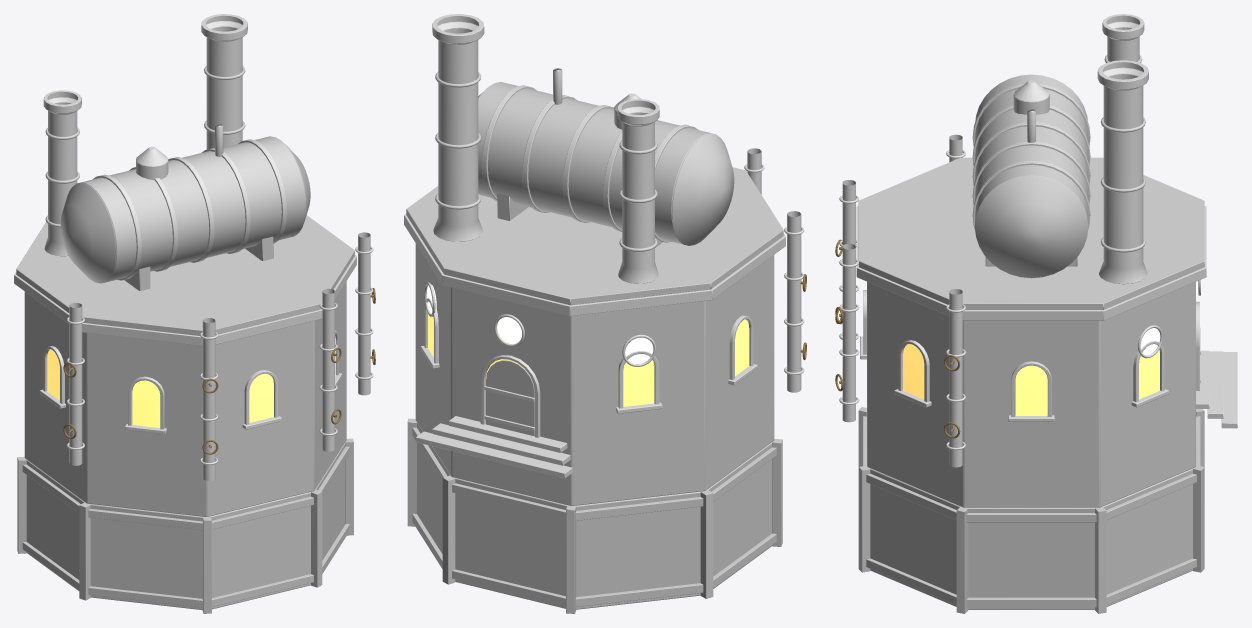
File: workshop.glb
The picture shows the model from 3 angles, left to right: view 1: azimuth 30°, elevation 25°; view 2: azimuth 150°, elevation 25°; view 3: azimuth 270°, elevation 25°; orthographic projection. The views are drawn at different scales.
Visible parts, largest first — view 1: ground__iron_decay, crown__iron_decay, basement__iron_decay, ground__brass_pipe, crown__soot_iron, crown__brass_pipe, ground__window_glass, ground__bronze; view 2: ground__iron_decay, crown__iron_decay, basement__iron_decay, crown__soot_iron, crown__brass_pipe, ground__brass_pipe, ground__stone_decay, ground__window_glass, ground__trim_brass, ground__clock_face; view 3: ground__iron_decay, crown__iron_decay, basement__iron_decay, crown__soot_iron, ground__brass_pipe, crown__brass_pipe, ground__window_glass, ground__stone_decay, ground__bronze.
Boxes of the visible parts, box(x1,y1,x2,y2) form: ground__iron_decay: box(24, 281, 346, 516); crown__iron_decay: box(16, 66, 354, 335); basement__iron_decay: box(17, 438, 353, 613); ground__brass_pipe: box(39, 232, 373, 480); crown__soot_iron: box(43, 14, 247, 256); crown__brass_pipe: box(14, 124, 356, 345); ground__window_glass: box(47, 336, 335, 427); ground__bronze: box(63, 288, 375, 454); ground__iron_decay: box(415, 243, 774, 505); crown__iron_decay: box(406, 71, 783, 305); basement__iron_decay: box(407, 418, 782, 613); crown__soot_iron: box(432, 14, 659, 283); crown__brass_pipe: box(404, 68, 785, 315); ground__brass_pipe: box(420, 148, 804, 413); ground__stone_decay: box(416, 416, 572, 478); ground__window_glass: box(428, 314, 749, 406); ground__trim_brass: box(480, 355, 540, 437); ground__clock_face: box(427, 284, 653, 363); ground__iron_decay: box(867, 282, 1195, 507); crown__iron_decay: box(858, 55, 1204, 309); basement__iron_decay: box(858, 407, 1204, 613); crown__soot_iron: box(1097, 14, 1148, 284); ground__brass_pipe: box(839, 134, 1200, 467); crown__brass_pipe: box(856, 80, 1206, 320); ground__window_glass: box(903, 344, 1159, 415); ground__stone_decay: box(1196, 350, 1237, 428); ground__bronze: box(835, 239, 960, 438).
Size of the model in its own units: 11.12 by 16.05 by 11.39.
